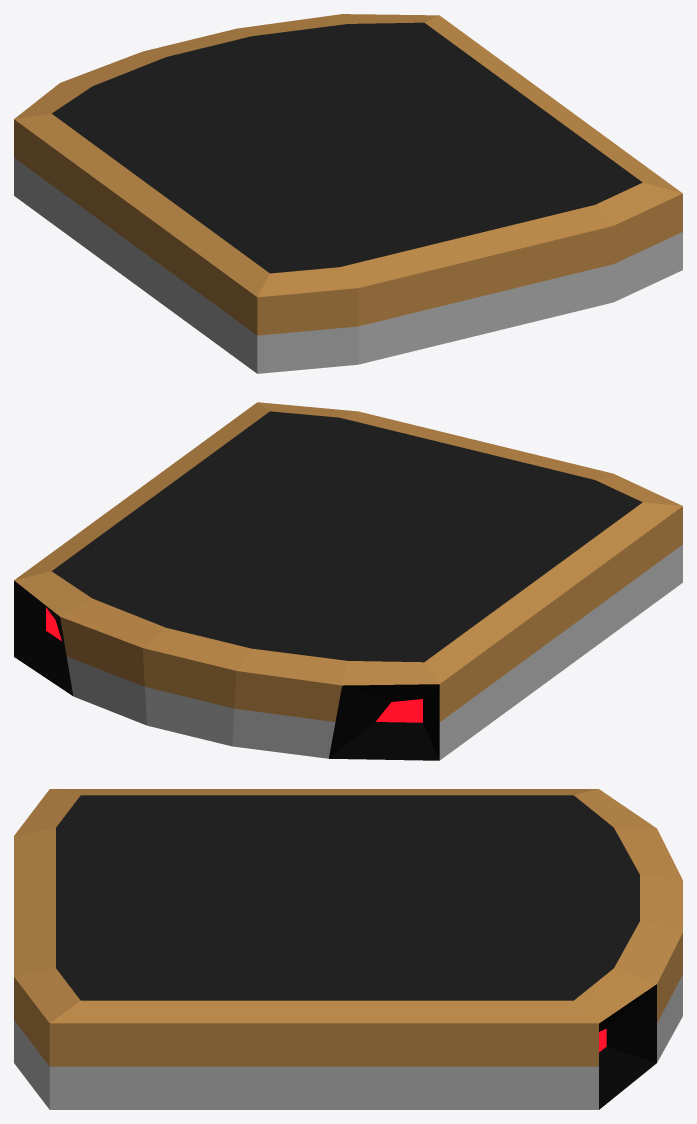
Rendered from WageCageBase.glb.
The picture shows the model from 3 angles, top to bottom: view 1: azimuth 30°, elevation 25°; view 2: azimuth 150°, elevation 25°; view 3: azimuth 270°, elevation 25°; orthographic projection. The views are drawn at different scales.
Visible parts, largest first — view 1: Base; view 2: Base; view 3: Base.
Part boxes in pixels (<box>): Base: <box>14,14,682,373</box>; Base: <box>14,402,682,760</box>; Base: <box>14,789,682,1109</box>.
Bounding box in the file's own units: 0.5042 × 0.095 × 0.6081.
